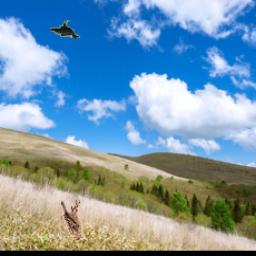Crow: (49, 21, 79, 39)
Sparrow: (61, 200, 83, 240)
